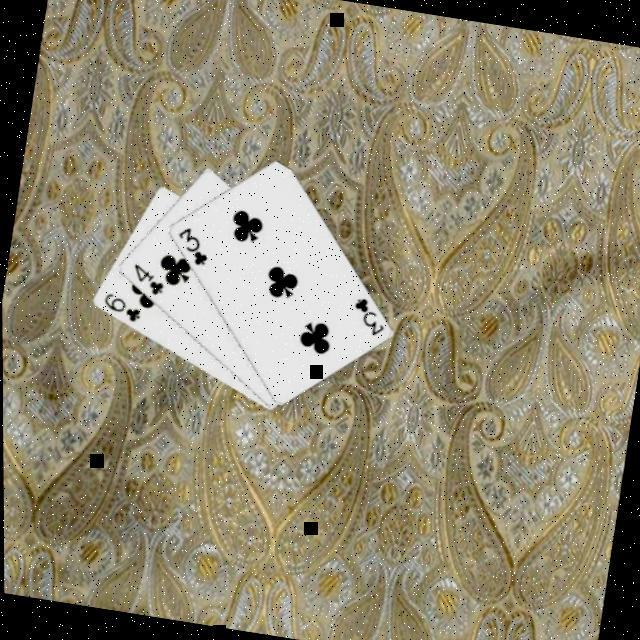3C: (171, 223, 215, 270), (347, 294, 391, 341)
4C: (126, 261, 170, 301)
6C: (98, 290, 146, 328)
